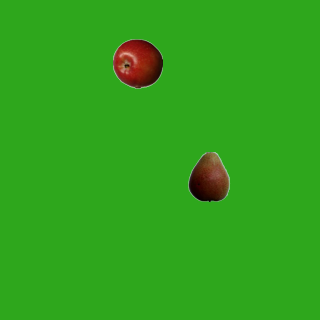Apple Braeburn: (112, 38, 162, 88)
Pear Forelle: (183, 151, 233, 201)
